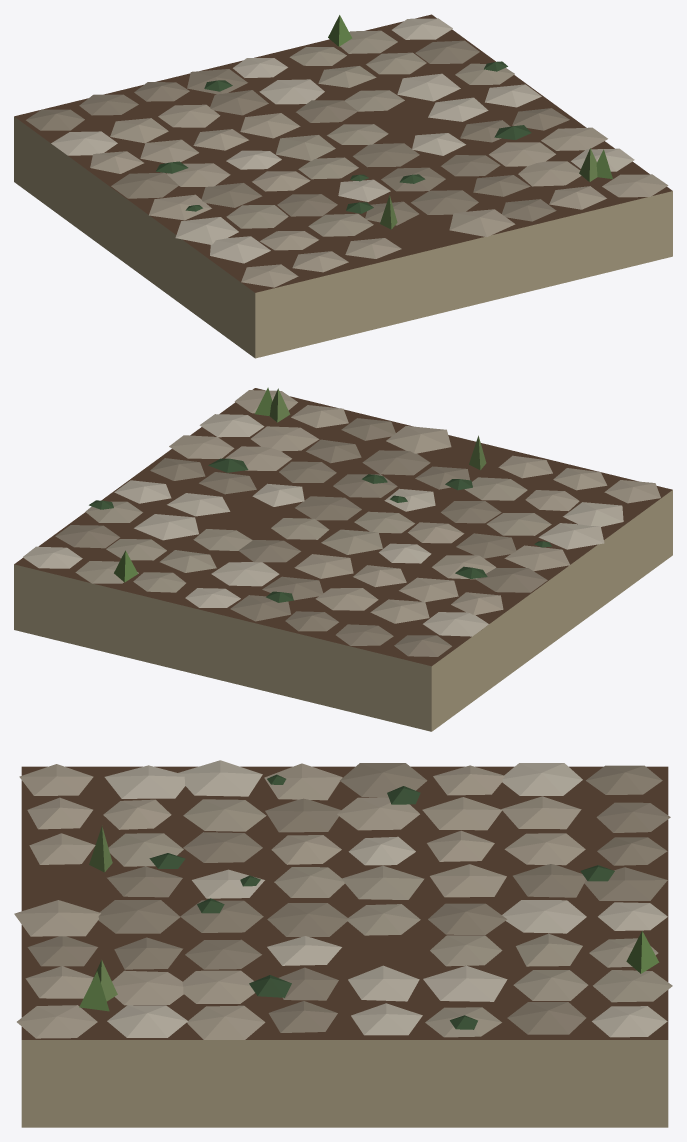
The model's file is t_cobble.glb.
The picture shows the model from 3 angles, top to bottom: view 1: azimuth 30°, elevation 25°; view 2: azimuth 150°, elevation 25°; view 3: azimuth 270°, elevation 25°; orthographic projection. The views are drawn at different scales.
Visible parts, largest first — view 1: t_cobble; view 2: t_cobble; view 3: t_cobble.
Boxes of the visible parts, left/top/right/bottom form: t_cobble: left=14, top=14, right=672, bottom=358; t_cobble: left=14, top=387, right=672, bottom=731; t_cobble: left=14, top=760, right=672, bottom=1127.
Size of the model in its own units: 2.04 by 0.4662 by 2.04.
